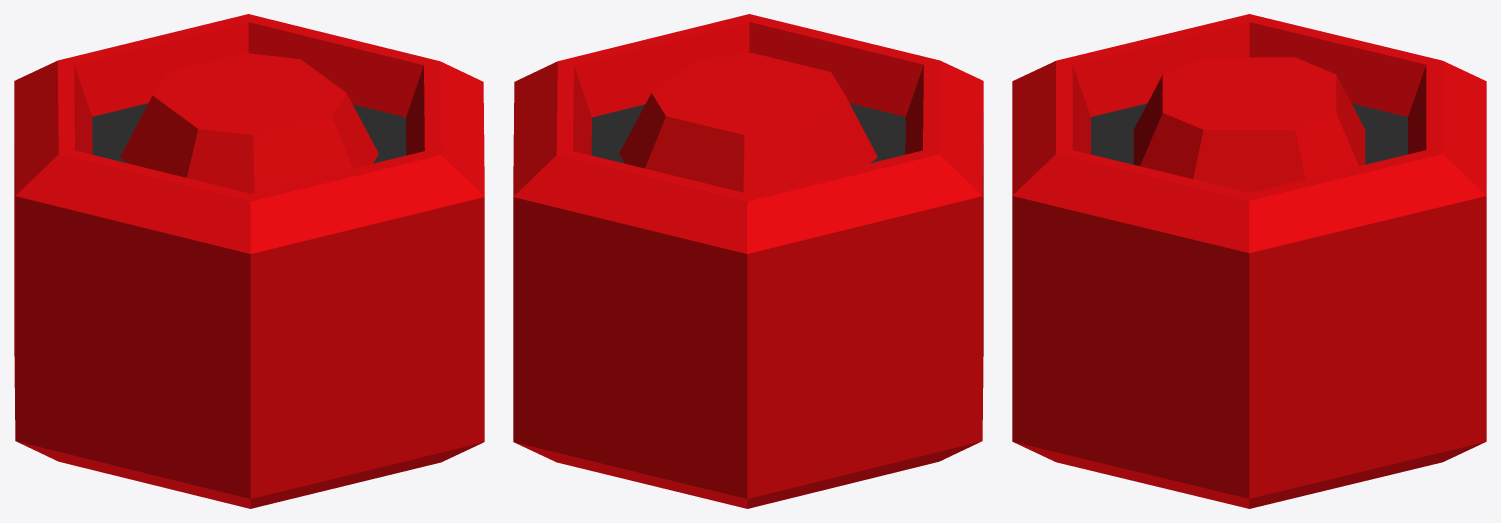
The model's file is SM_Module_TurretBase_BO.fbx.
3 renders of one model, left to right at view 1: azimuth 30°, elevation 25°; view 2: azimuth 150°, elevation 25°; view 3: azimuth 270°, elevation 25°, orthographic.
Parts seen in each view (by area): view 1: SM_Module_TurretBase_BO; view 2: SM_Module_TurretBase_BO; view 3: SM_Module_TurretBase_BO.
Boxes of the visible parts, left/top/right/bottom form: SM_Module_TurretBase_BO: left=14, top=14, right=484, bottom=508; SM_Module_TurretBase_BO: left=513, top=14, right=983, bottom=508; SM_Module_TurretBase_BO: left=1012, top=14, right=1486, bottom=508.
Size of the model in its own units: 4 by 3.5 by 2.62.
